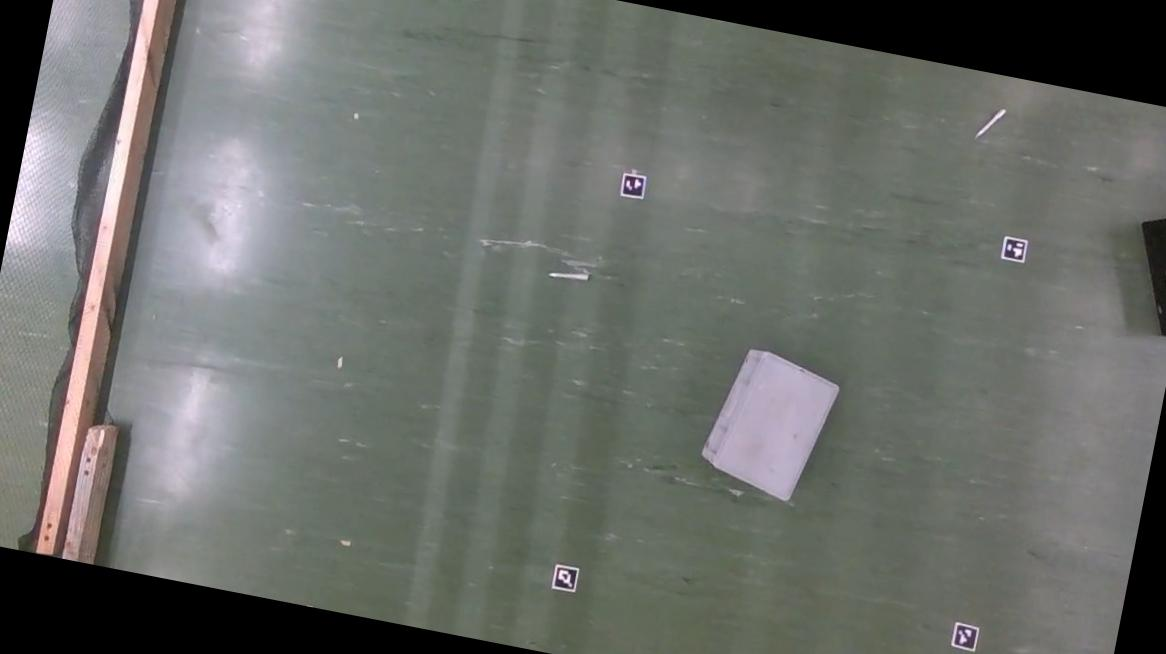probes: (546, 258, 593, 286), (977, 105, 1003, 140)
rako: (695, 341, 844, 506), (1121, 198, 1166, 338)
